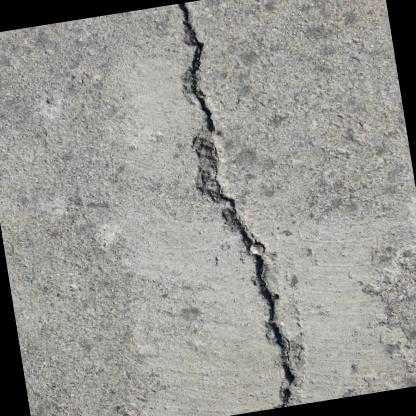crack: (208, 138, 293, 408), (176, 1, 217, 132)
